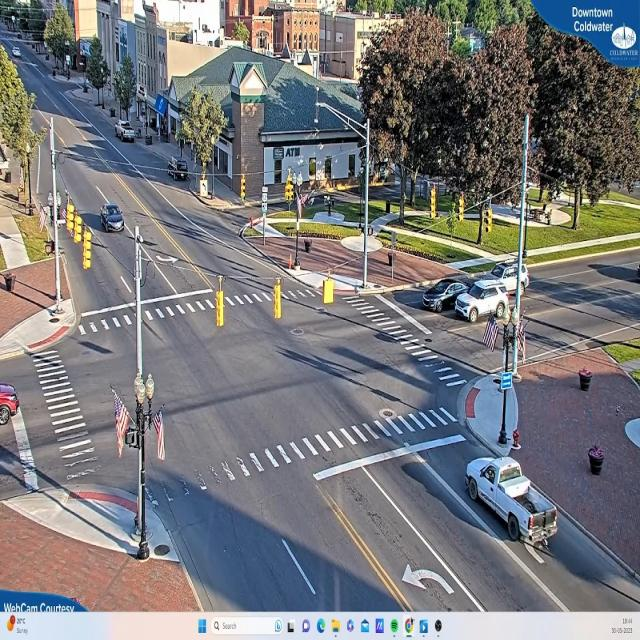car: (465, 457, 560, 557), (453, 283, 512, 324), (478, 263, 530, 298), (421, 280, 468, 312), (1, 383, 22, 422), (100, 203, 126, 234), (117, 122, 137, 144)
